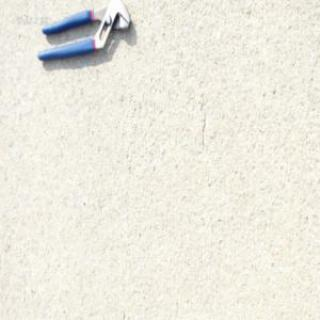Pliertrack_idkeyframe: (34, 0, 130, 63)
